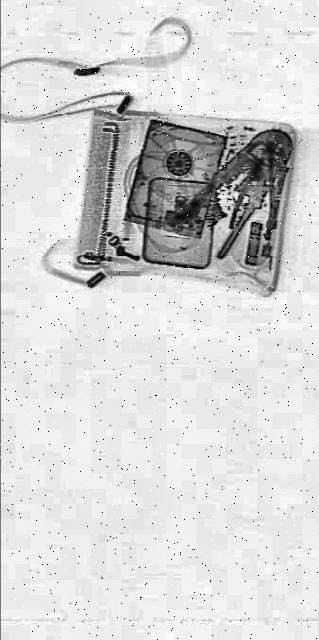Pliers: (176, 94, 300, 286)
